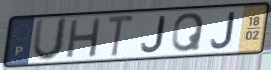H: (64, 16, 104, 60)
J: (139, 15, 167, 54), (209, 11, 236, 51)
Q: (170, 12, 206, 54)
T: (106, 13, 137, 59)
U: (30, 16, 71, 63)
